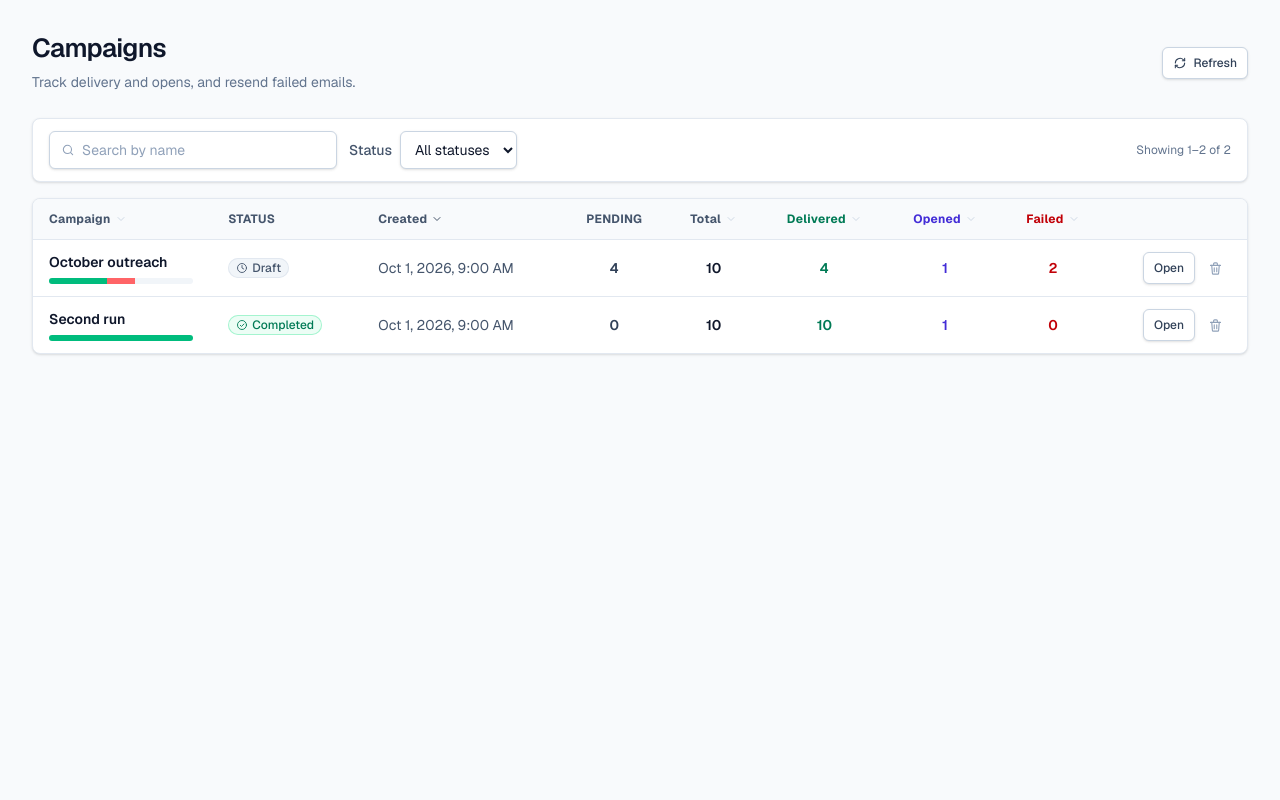
Test: CampaignsDashboardPage › shows the server refusal inside the dialog when a campaign is still sending
Click the button named "Delete campaign October outreach" at (1215, 268), box [1199,252,1231,284]
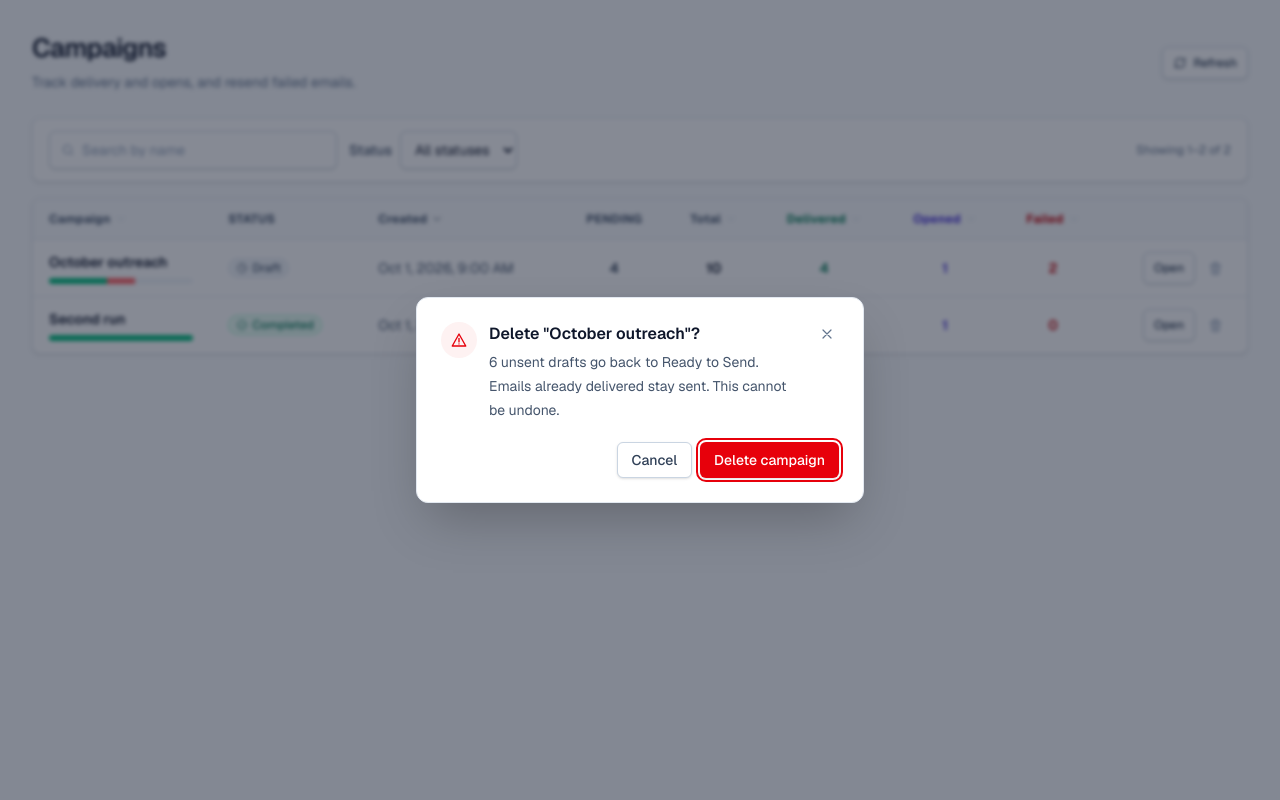
Click the button "Delete campaign" at (770, 460), box [700,442,839,478]
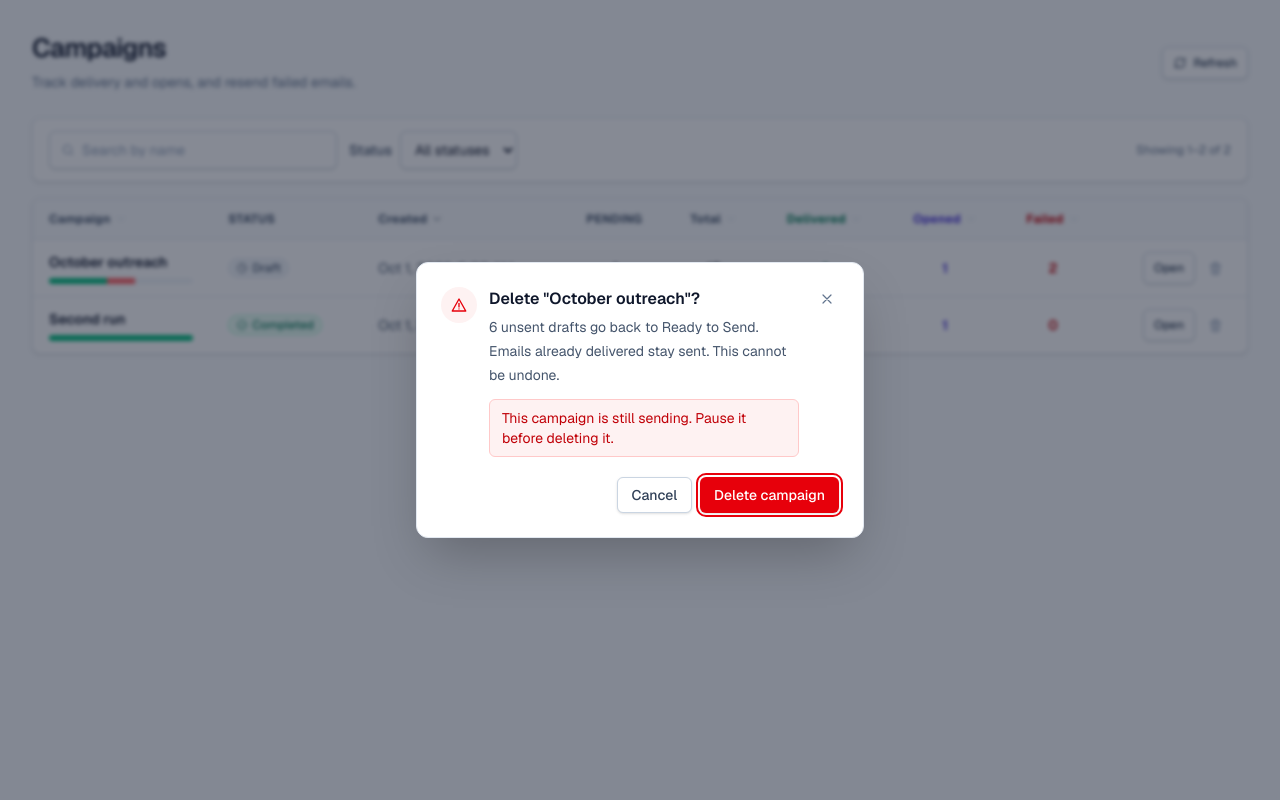
Expected: the dialog is shown
Expected: the message shows "still sending", [502,409,746,447]
